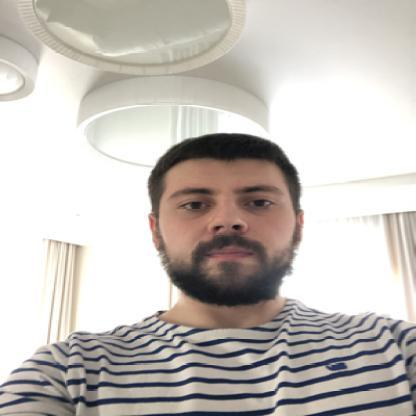without_mask: (162, 177, 292, 308)
